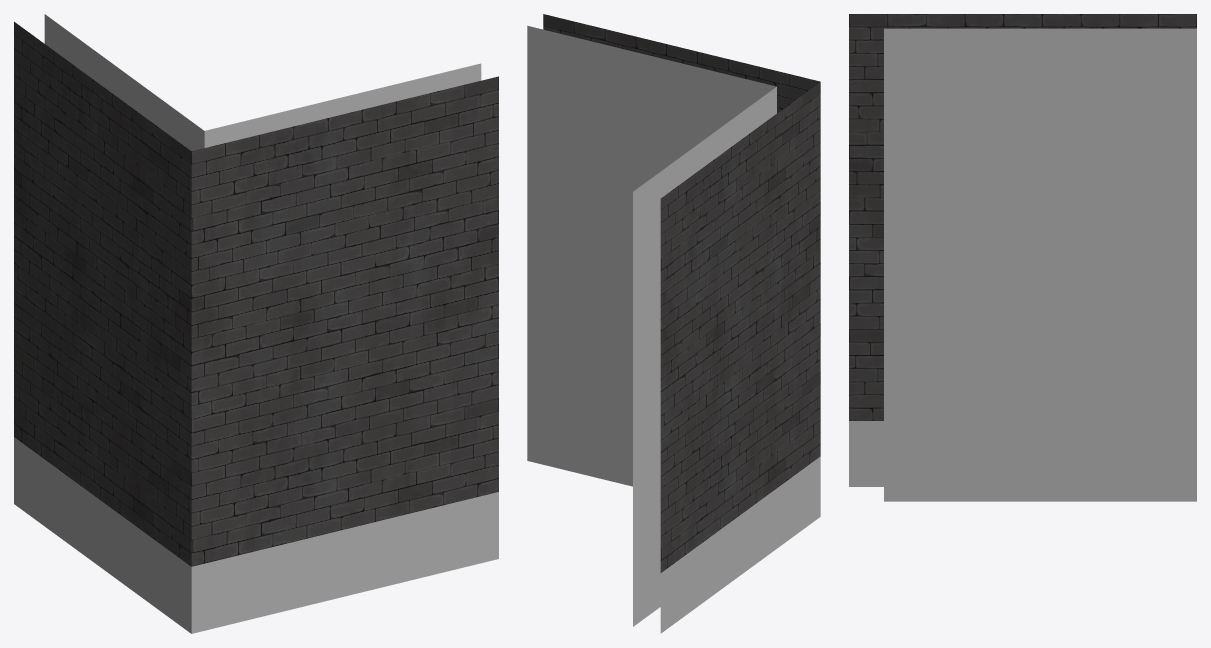
Rendered from WornBrick_Bottom_Corner.gltf.
3 views of the same model, side by side, from view 1: azimuth 30°, elevation 25°; view 2: azimuth 150°, elevation 25°; view 3: azimuth 270°, elevation 25° (orthographic). The views are drawn at different scales.
Visible parts, largest first — view 1: WornBrick_Bottom_Corner; view 2: WornBrick_Bottom_Corner; view 3: WornBrick_Bottom_Corner.
Part boxes in pixels (x1,y1,x2,y2): WornBrick_Bottom_Corner: (14,14,498,633); WornBrick_Bottom_Corner: (527,14,820,633); WornBrick_Bottom_Corner: (849,14,1196,501).
Size of what is drawn, in the model's own units: 2 by 3 by 2.
